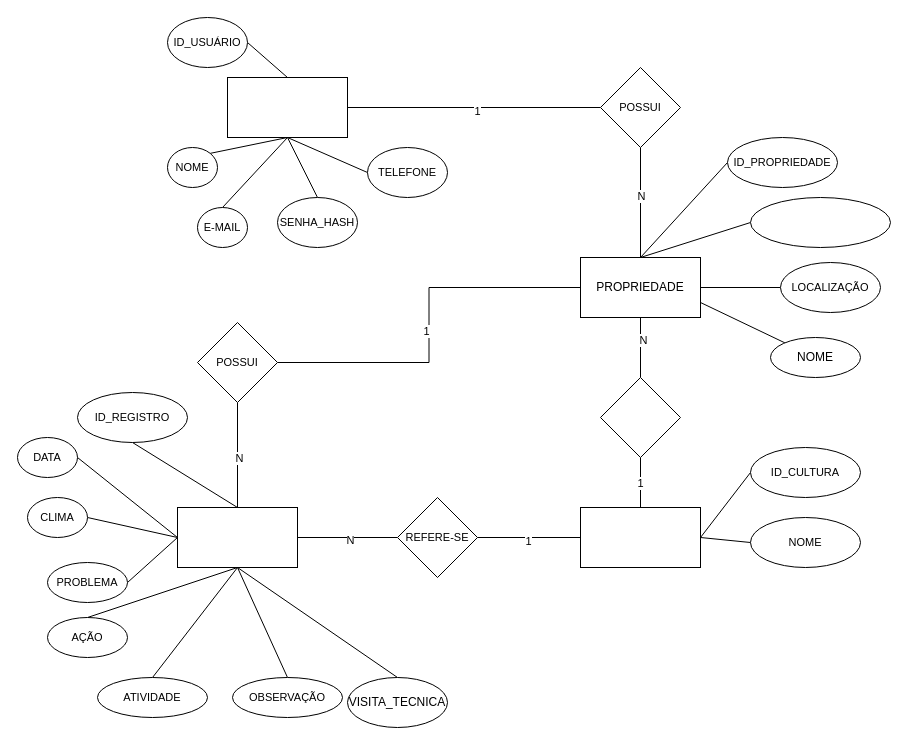
The diagram is 908 pixels wide and 745 high, and some of its shapes have lost their labels. Here are the shapes that lost their labels. From the top down, the box of each, then its label:
(226, 76, 348, 138): USUÁRIO
(750, 196, 890, 248): TAMANHO_HECTARES
(600, 376, 680, 458): CULTIVA
(176, 506, 298, 568): REGISTRO_CAMPO
(580, 506, 700, 568): CULTURA
